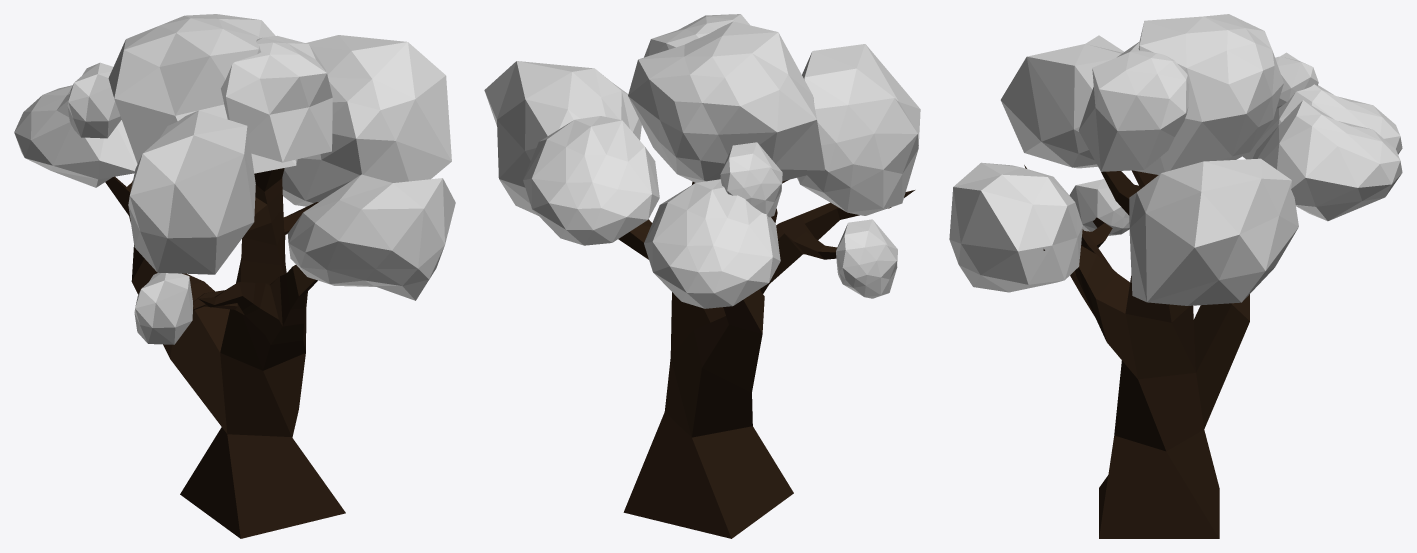
Rendered from tree.fbx.
3 views of the same model, side by side, from view 1: azimuth 30°, elevation 25°; view 2: azimuth 150°, elevation 25°; view 3: azimuth 270°, elevation 25° (orthographic). The views are drawn at different scales.
Parts seen in each view (by area): view 1: Trunk, Icosphere.003, Icosphere.000, Icosphere.004, Icosphere.006, Icosphere.001, Icosphere.002, Icosphere.005, Icosphere.007; view 2: Trunk, Icosphere.006, Icosphere.000, Icosphere.008, Icosphere.002, Icosphere.003, Icosphere.005, Icosphere.007, Icosphere.001; view 3: Trunk, Icosphere.003, Icosphere.006, Icosphere.004, Icosphere.008, Icosphere.001, Icosphere.000, Icosphere.002, Icosphere.005, Icosphere.007.
Boxes of the visible parts, left/top/right/bottom form: Trunk: left=105, top=168, right=345, bottom=538; Icosphere.003: left=282, top=35, right=451, bottom=206; Icosphere.000: left=128, top=110, right=255, bottom=274; Icosphere.004: left=287, top=174, right=455, bottom=300; Icosphere.006: left=108, top=14, right=297, bottom=173; Icosphere.001: left=221, top=35, right=332, bottom=162; Icosphere.002: left=14, top=85, right=137, bottom=187; Icosphere.005: left=134, top=272, right=192, bottom=344; Icosphere.007: left=67, top=62, right=121, bottom=138; Trunk: left=618, top=180, right=914, bottom=538; Icosphere.006: left=628, top=21, right=824, bottom=182; Icosphere.000: left=797, top=44, right=920, bottom=215; Icosphere.008: left=523, top=116, right=659, bottom=245; Icosphere.002: left=644, top=179, right=780, bottom=308; Icosphere.003: left=484, top=61, right=641, bottom=215; Icosphere.005: left=836, top=219, right=897, bottom=298; Icosphere.007: left=720, top=142, right=782, bottom=217; Icosphere.001: left=644, top=14, right=749, bottom=57; Trunk: left=1024, top=165, right=1249, bottom=538; Icosphere.003: left=1129, top=158, right=1298, bottom=305; Icosphere.006: left=1133, top=14, right=1283, bottom=174; Icosphere.004: left=949, top=162, right=1082, bottom=292; Icosphere.008: left=1252, top=100, right=1402, bottom=221; Icosphere.001: left=1078, top=41, right=1189, bottom=171; Icosphere.000: left=1000, top=35, right=1123, bottom=168; Icosphere.002: left=1243, top=84, right=1402, bottom=159; Icosphere.005: left=1069, top=178, right=1129, bottom=235; Icosphere.007: left=1275, top=52, right=1318, bottom=109.
Bounding box in the file's own units: 945 × 1153 × 1014.
